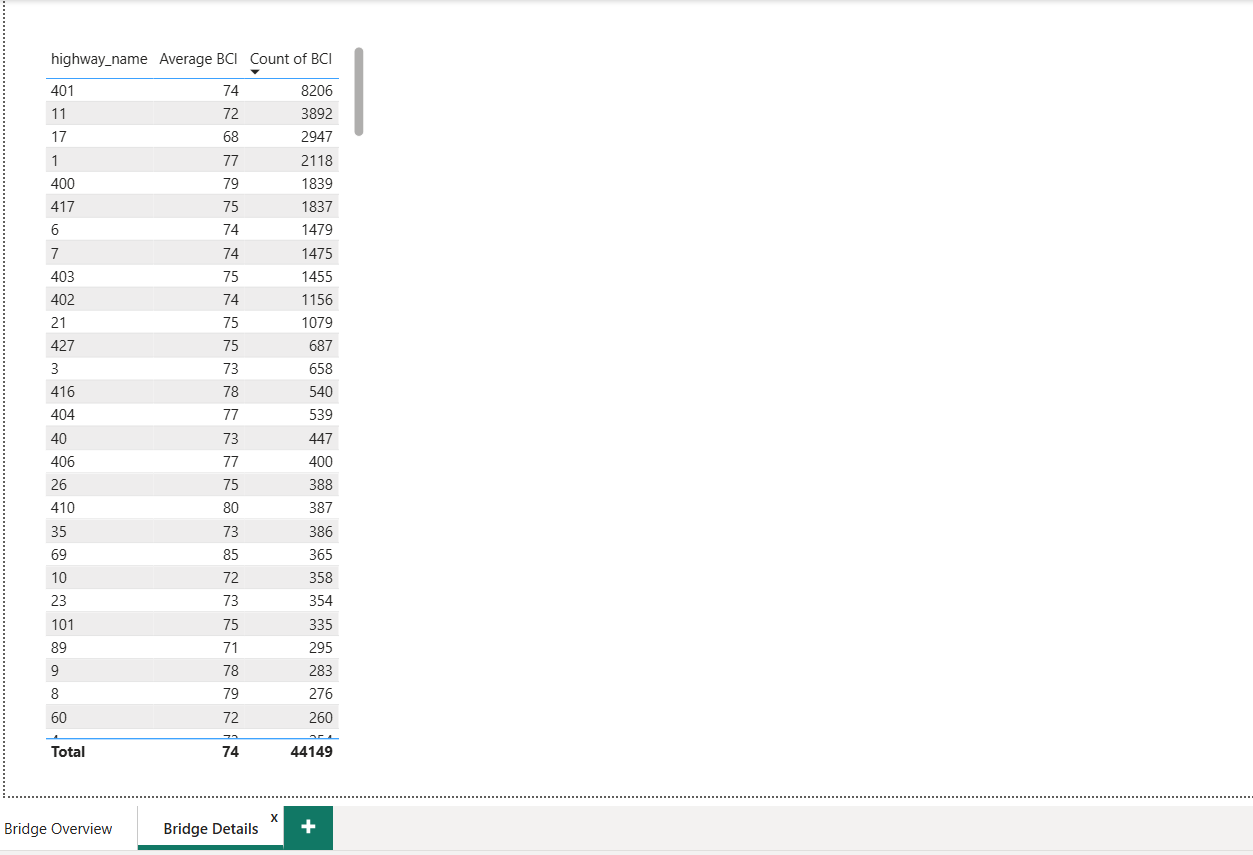

The page's visual inventory and layout, read from the dashboard file:
{"tool":"powerbi","page":{"name":"Bridge Details","canvas":[1280,720],"ordinal":1},"visuals":[{"type":"tableEx","fields":{"Values":["bridge_master.highway_name","bridge_detail.Average BCI","CountNonNull(bridge_detail.BCI)"]},"box":[30.3,37.4,299,656.7],"z":0}]}

Visuals, with their boxes on the page's 1280x720 design canvas (x1, y1, x2, y2). These are canvas units, not pixel positions in the 1253x855 screenshot, which may show the page scaled, cropped or inside an application window:
tableEx - bridge_master.highway_name x bridge_detail.Average BCI: left=30, top=37, right=329, bottom=694
